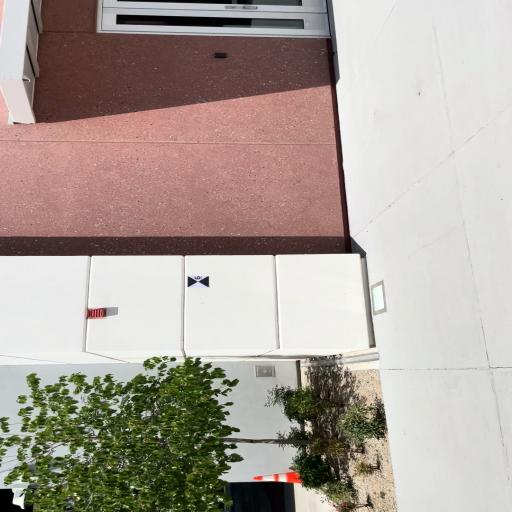target6: (187, 275, 210, 288)
